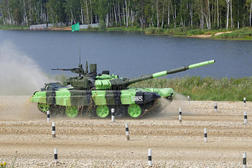t72: (32, 59, 221, 119)
